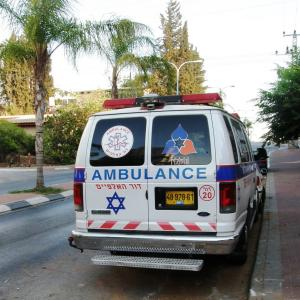Vehicle-registration-plate: (166, 190, 197, 206)
